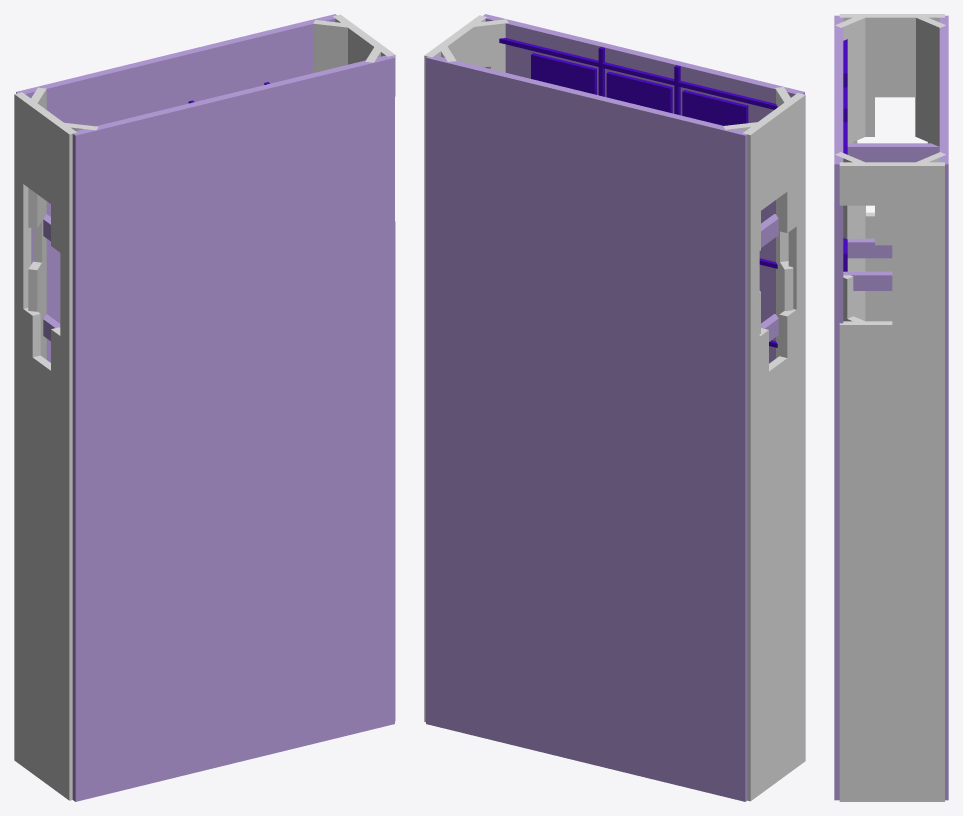
The model's file is no_walls.dae.
The picture shows the model from 3 angles, left to right: view 1: azimuth 30°, elevation 25°; view 2: azimuth 150°, elevation 25°; view 3: azimuth 270°, elevation 25°; orthographic projection. The views are drawn at different scales.
Parts seen in each view (by area): view 1: Cube.050, Cube.238, Cube.336, Cube.303, Cube.302, Cube.349; view 2: Cube.238, Cube.050, Cube.037, Cube.036, Cube.038, Cube.039, Cube.333, Cube.206, Cube.351, Cube.344, Cube.205; view 3: Cube.050, Cube.238, Cube.014, Cube.009, Cube.247, Cube.015, Cube.209, Cube.365, Cube.252, Cube.251, Cube.250, Cube.213 (+112 smaller).
Part boxes in pixels (x1=…): Cube.050: x1=72, y1=55, x2=394, y2=801; Cube.238: x1=16, y1=14, x2=336, y2=362; Cube.336: x1=23, y1=308, x2=40, y2=357; Cube.303: x1=313, y1=20, x2=332, y2=67; Cube.302: x1=331, y1=22, x2=350, y2=67; Cube.349: x1=14, y1=219, x2=31, y2=267; Cube.238: x1=426, y1=55, x2=747, y2=801; Cube.050: x1=483, y1=14, x2=804, y2=363; Cube.037: x1=499, y1=38, x2=777, y2=109; Cube.036: x1=606, y1=71, x2=672, y2=113; Cube.038: x1=531, y1=53, x2=596, y2=94; Cube.039: x1=682, y1=90, x2=748, y2=125; Cube.333: x1=779, y1=309, x2=796, y2=357; Cube.206: x1=471, y1=21, x2=490, y2=67; Cube.351: x1=779, y1=185, x2=796, y2=232; Cube.344: x1=788, y1=220, x2=805, y2=267; Cube.205: x1=489, y1=19, x2=508, y2=66; Cube.050: x1=834, y1=15, x2=843, y2=800; Cube.238: x1=939, y1=15, x2=948, y2=800; Cube.014: x1=847, y1=143, x2=939, y2=162; Cube.009: x1=843, y1=271, x2=892, y2=290; Cube.247: x1=839, y1=162, x2=857, y2=205; Cube.015: x1=847, y1=238, x2=892, y2=258; Cube.209: x1=839, y1=321, x2=857, y2=364; Cube.365: x1=892, y1=14, x2=909, y2=57; Cube.252: x1=892, y1=162, x2=909, y2=205; Cube.251: x1=875, y1=162, x2=892, y2=205; Cube.250: x1=857, y1=162, x2=874, y2=205; Cube.213: x1=875, y1=321, x2=892, y2=364.
Bounding box in the file's own units: 41 × 13 × 80.
